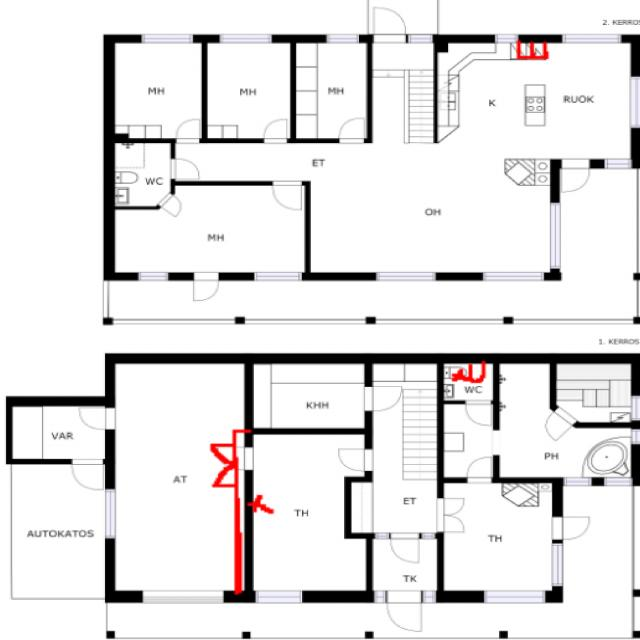door: (386, 591, 422, 632), (537, 406, 578, 442), (374, 8, 405, 42), (71, 460, 102, 491), (562, 158, 590, 192), (390, 533, 420, 563), (337, 449, 373, 472), (272, 182, 301, 210), (365, 387, 400, 410), (193, 272, 219, 302), (553, 518, 587, 539), (209, 444, 242, 465), (80, 408, 114, 428), (158, 194, 186, 218), (209, 466, 242, 486), (339, 117, 364, 143), (465, 401, 491, 425), (176, 118, 199, 143), (468, 458, 491, 482), (170, 159, 198, 178), (264, 119, 286, 143), (437, 515, 464, 532), (437, 498, 464, 515)
